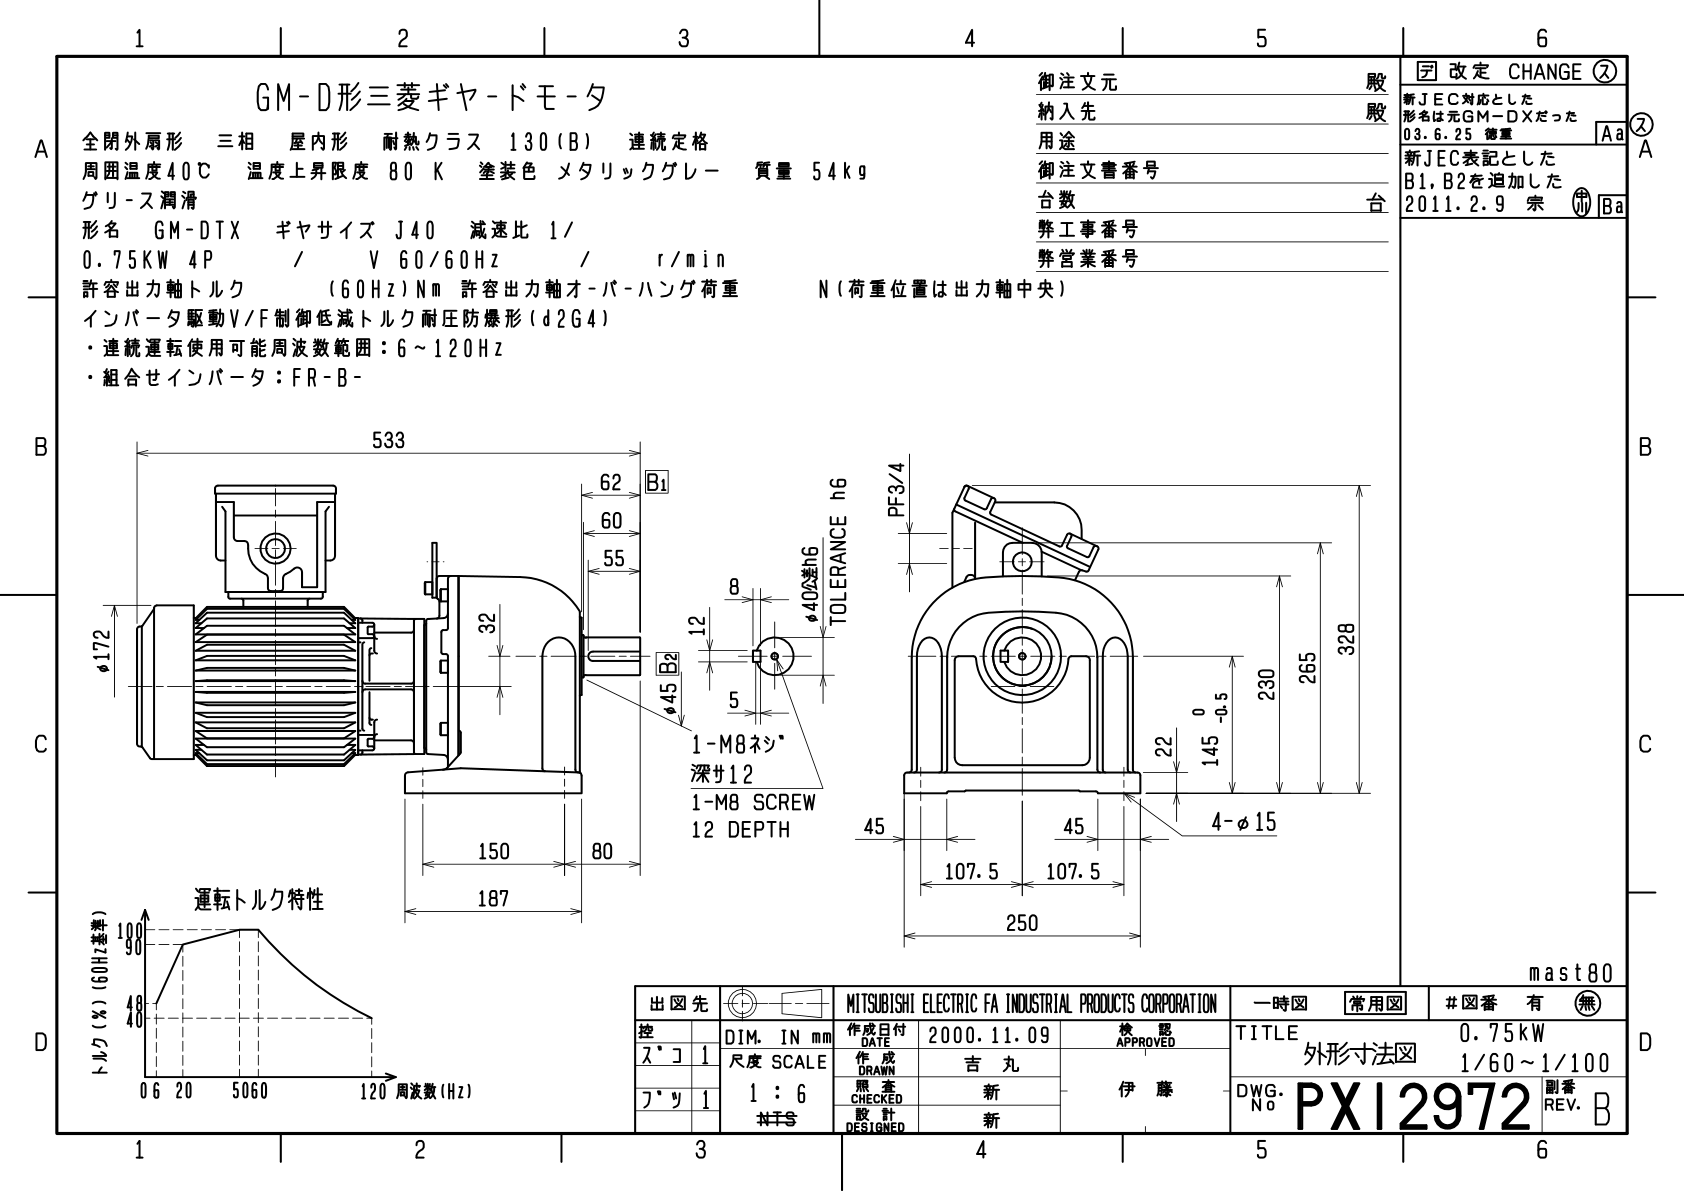GM_D_VF制御屋内_三相_脚: (70, 400, 1386, 974)
